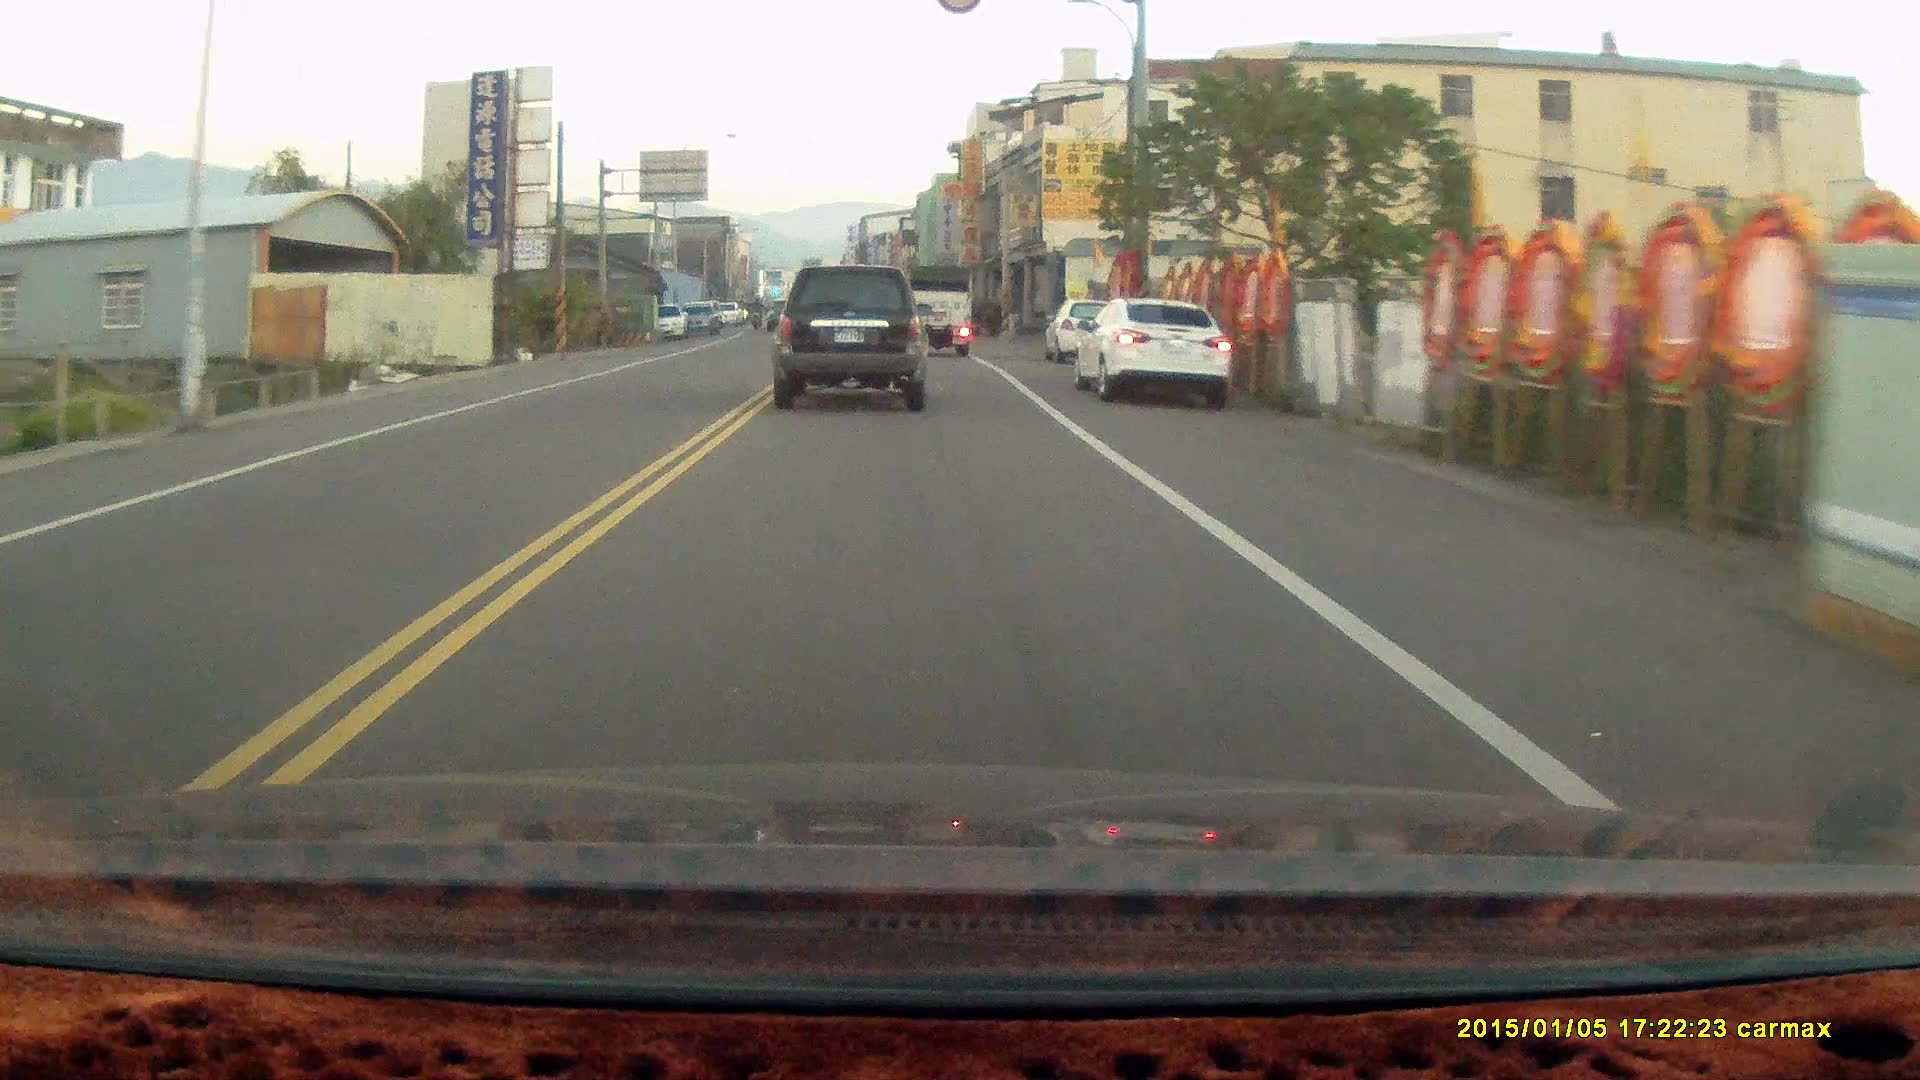vehicle: (771, 262, 934, 413), (1075, 291, 1230, 404), (902, 262, 977, 359), (1042, 297, 1135, 364)
